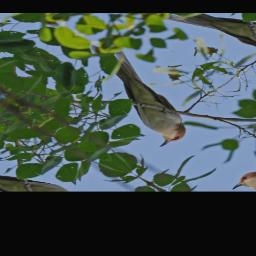Cuckoo: (43, 37, 225, 151)
